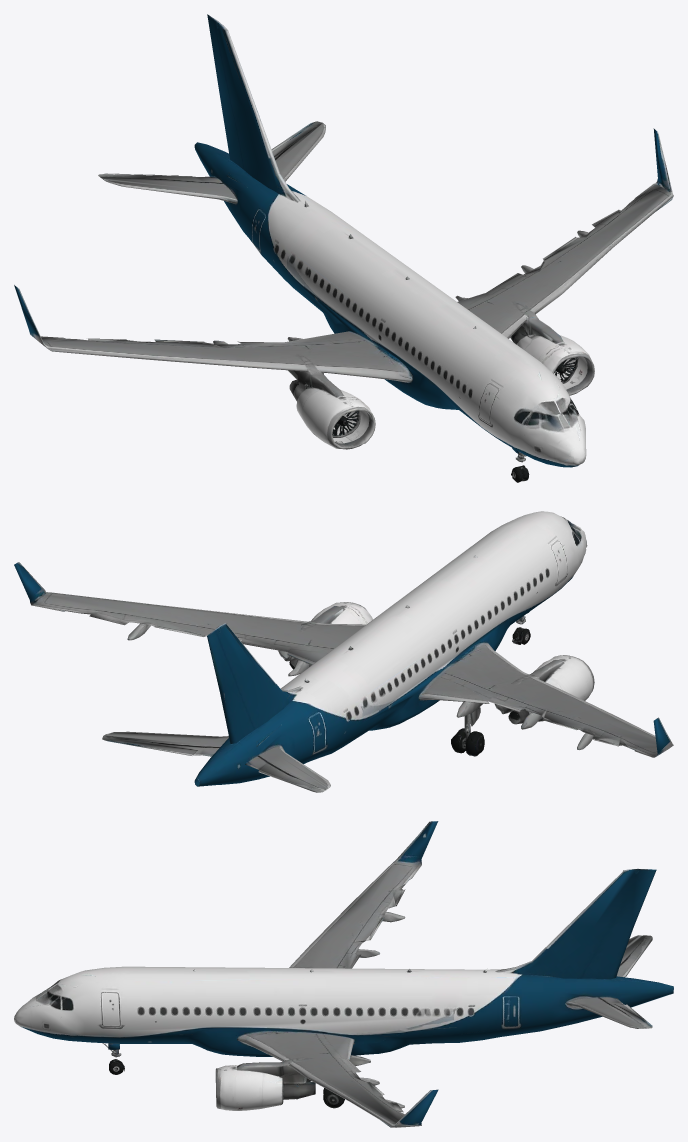
Rendered from airliner.glb.
3 views of the same model, one above another, from view 1: azimuth 30°, elevation 25°; view 2: azimuth 150°, elevation 25°; view 3: azimuth 270°, elevation 25° (orthographic). The views are drawn at different scales.
Visible parts, largest first — view 1: prop; view 2: prop; view 3: prop.
Boxes of the visible parts, <box> form: prop: <box>14,14,673,482</box>; prop: <box>14,511,673,792</box>; prop: <box>14,821,673,1127</box>.
Size of the model in its own units: 25.06 by 8.91 by 26.
Materials: 1 (1 with a texture image).
